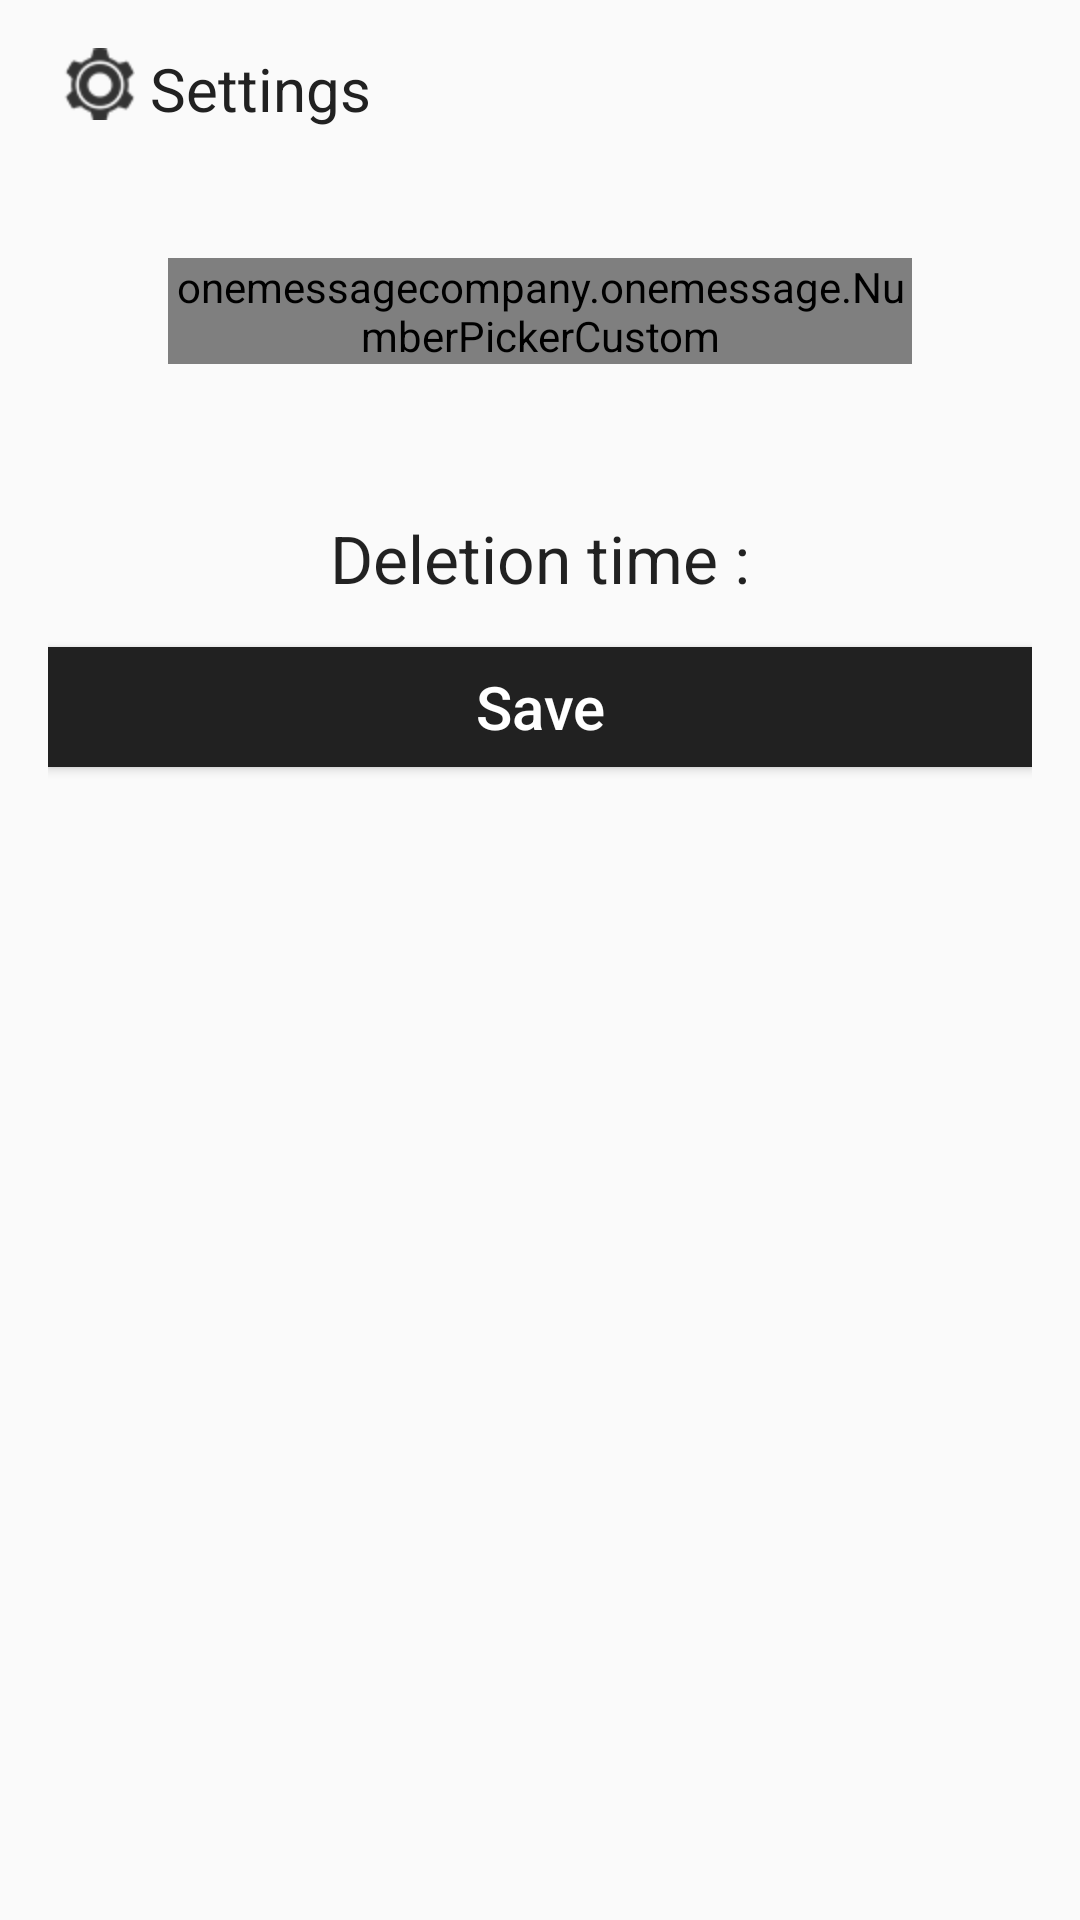

Screen size 1080px×1920px. Icon name, then its box in pixels as bbox=(x1, y1, x2, y2):
om config: bbox=(65, 48, 135, 120)
